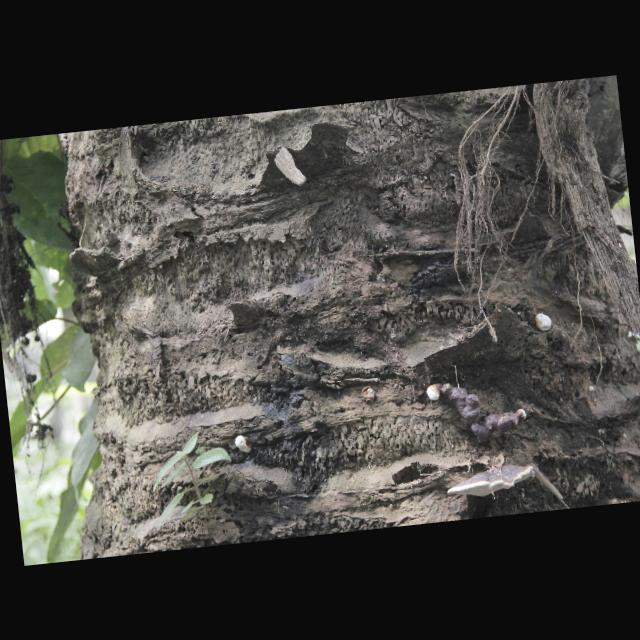ganoderma: (441, 378, 520, 451), (445, 461, 538, 501)
primordium: (235, 434, 254, 455), (535, 313, 554, 333), (426, 384, 443, 403), (518, 409, 528, 422)
